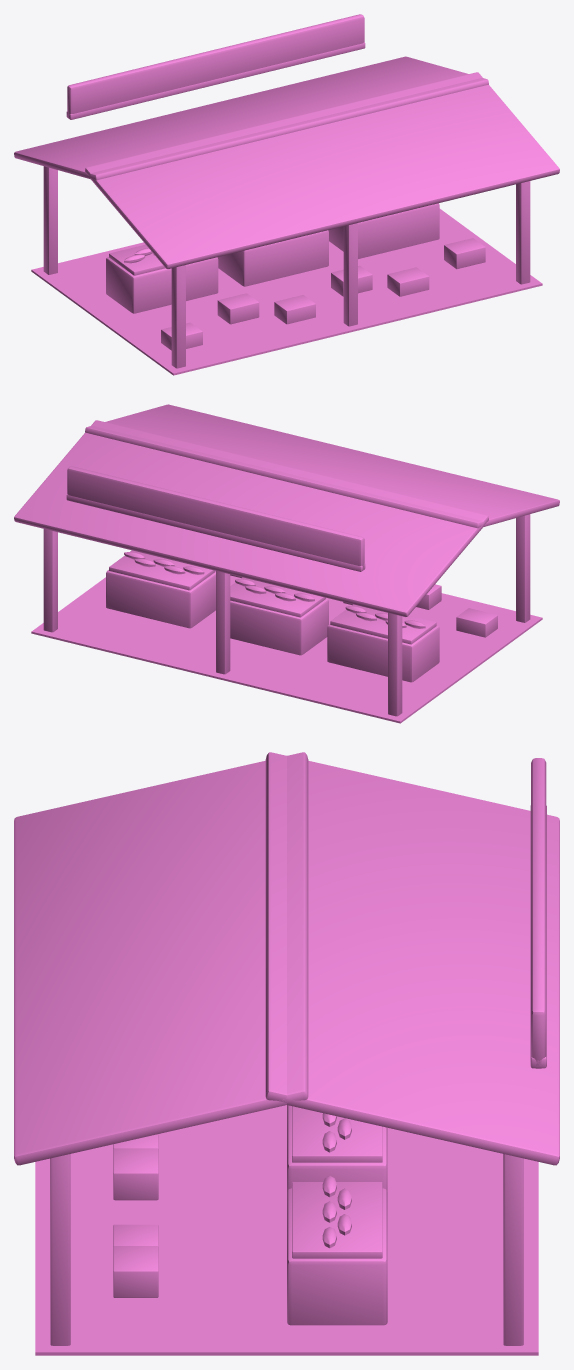
Rendered from Docks_FishMarket.fbx.
3 views of the same model, one above another, from view 1: azimuth 30°, elevation 25°; view 2: azimuth 150°, elevation 25°; view 3: azimuth 270°, elevation 25° (orthographic). The views are drawn at different scales.
Parts seen in each view (by area): view 1: FishMarket; view 2: FishMarket; view 3: FishMarket.
Part boxes in pixels (box(x1,y1,x2,y2)): FishMarket: box(14, 14, 559, 375); FishMarket: box(14, 404, 559, 723); FishMarket: box(14, 752, 559, 1355).
Size of the model in its own units: 32 by 13.7 by 21.69.
Materials: 1 (1 with a texture image).
